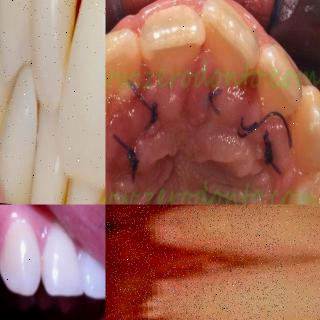Gum Swelling: (107, 234, 229, 320)
maligned: (0, 61, 50, 205), (142, 8, 208, 94), (198, 0, 256, 97), (254, 33, 302, 133), (105, 28, 144, 100)
plaque: (140, 250, 228, 320)
stains: (55, 172, 75, 204), (97, 180, 105, 204)
